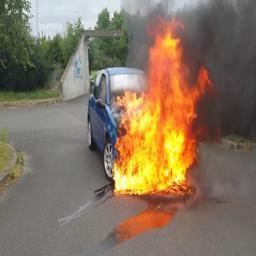fire: (112, 17, 214, 192)
